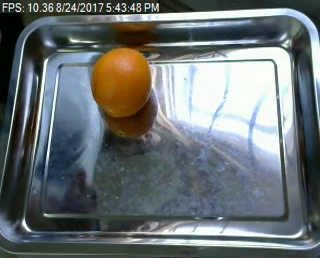Orange: (91, 47, 152, 116)
